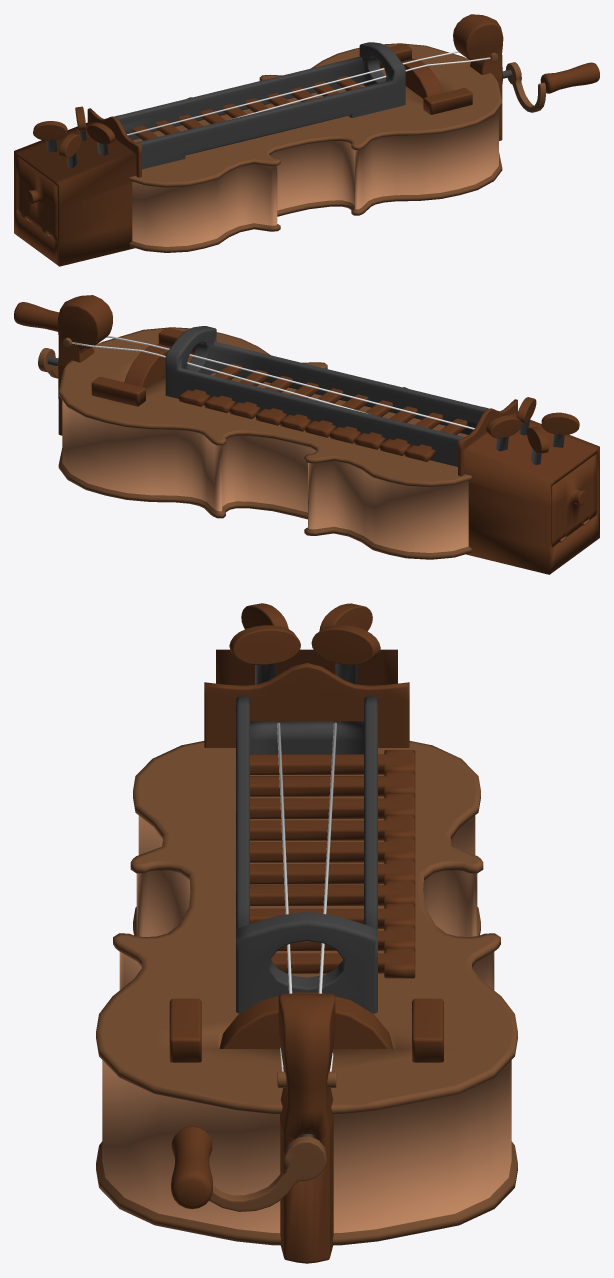
Rendered from Gurdy.fbx.
The picture shows the model from 3 angles, top to bottom: view 1: azimuth 30°, elevation 25°; view 2: azimuth 150°, elevation 25°; view 3: azimuth 270°, elevation 25°; orthographic projection. The views are drawn at different scales.
Visible parts, largest first — view 1: Hurdey_Gurdey; view 2: Hurdey_Gurdey; view 3: Hurdey_Gurdey.
Part boxes in pixels (x1,y1,x2,y2): Hurdey_Gurdey: [14, 14, 599, 266]; Hurdey_Gurdey: [14, 295, 599, 574]; Hurdey_Gurdey: [96, 603, 517, 1263].
Bounding box in the file's own units: 249 × 54.52 × 84.37.
